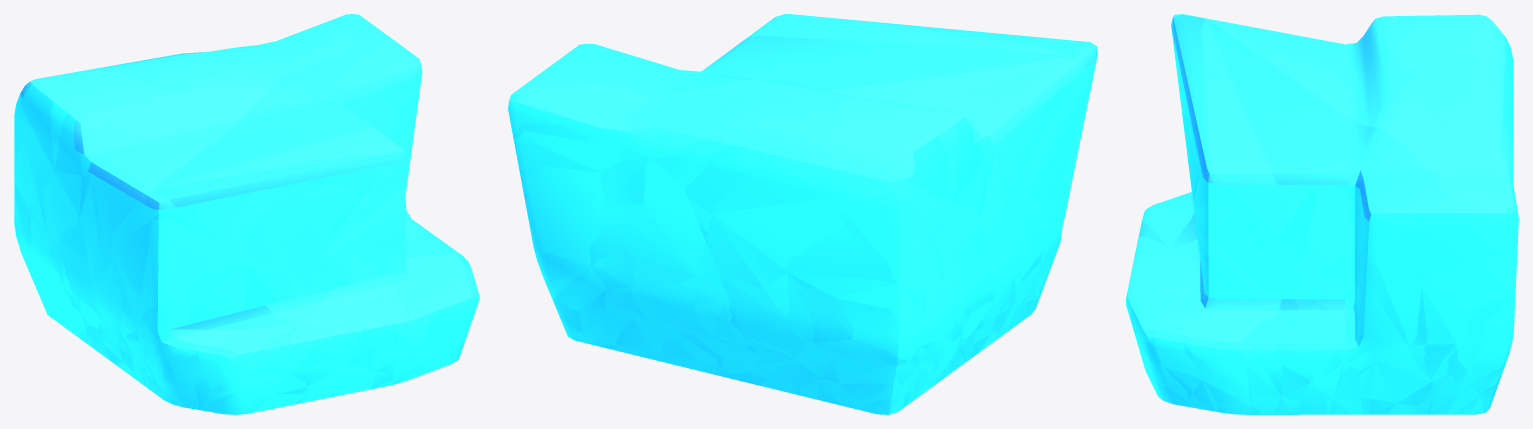
The model's file is Ice03.gltf.
3 views of the same model, side by side, from view 1: azimuth 30°, elevation 25°; view 2: azimuth 150°, elevation 25°; view 3: azimuth 270°, elevation 25° (orthographic). The views are drawn at different scales.
Visible parts, largest first — view 1: Ice03(Clone); view 2: Ice03(Clone); view 3: Ice03(Clone).
Boxes of the visible parts, x1=… form: Ice03(Clone): x1=14, y1=14, x2=479, y2=414; Ice03(Clone): x1=508, y1=14, x2=1097, y2=414; Ice03(Clone): x1=1126, y1=14, x2=1518, y2=414.
Bounding box in the file's own units: 1.53 × 0.952 × 1.37.
Materials: 2 (2 with a texture image).
